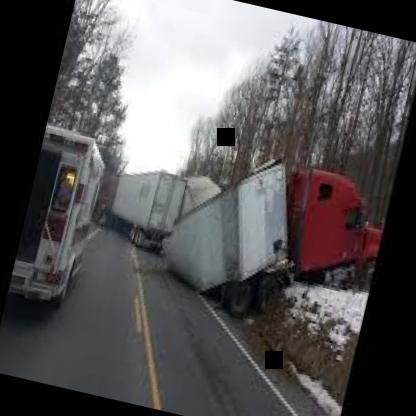accident: (148, 128, 394, 350)
